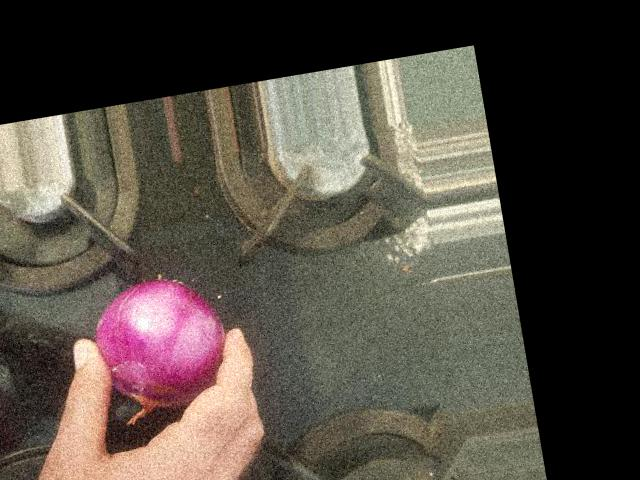onion: (188, 188, 323, 332)
